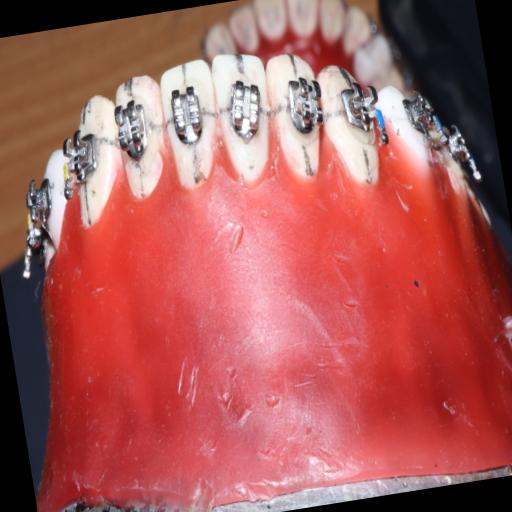incorrect_brace: (166, 80, 210, 144), (224, 79, 268, 141)
